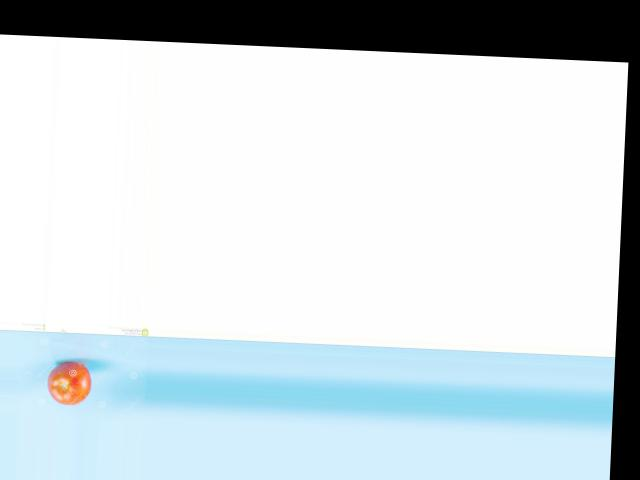tomato: (45, 361, 92, 405)
